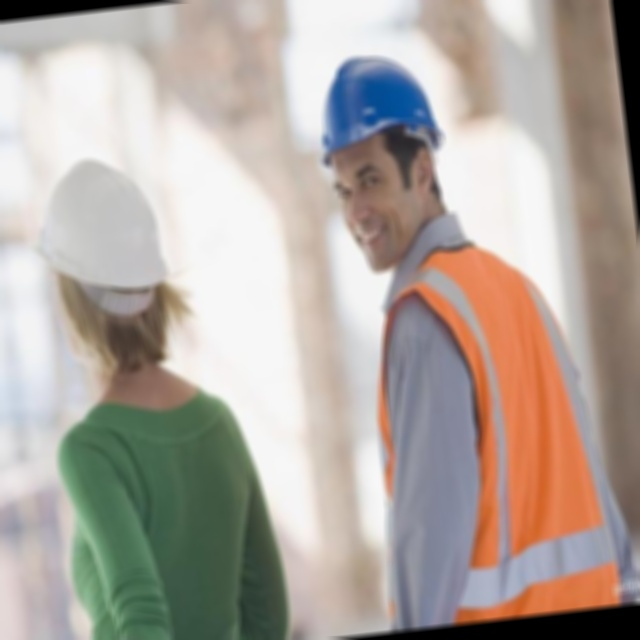Con_Chaleco: (363, 245, 629, 631)
Sin_Chaleco: (50, 372, 290, 640)
